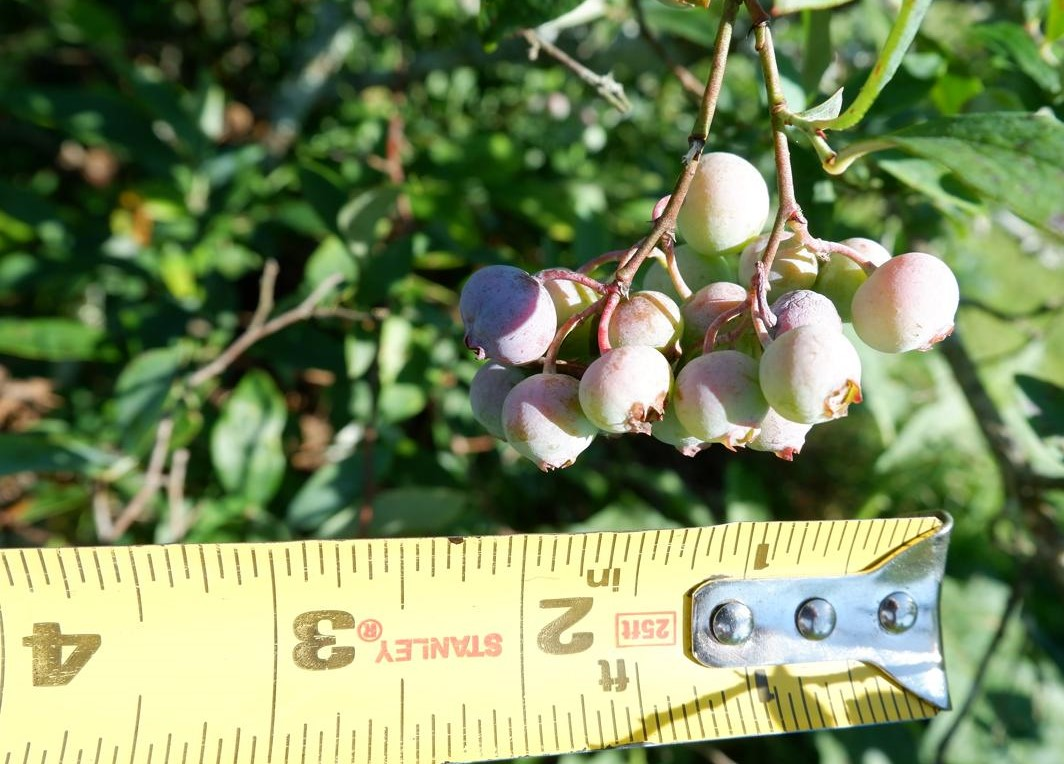Immature: (852, 253, 960, 354), (459, 265, 557, 369), (760, 326, 863, 424), (673, 351, 770, 453), (677, 152, 769, 257), (503, 374, 599, 474), (581, 345, 675, 435), (810, 238, 893, 325), (535, 265, 604, 363), (680, 280, 761, 363), (470, 359, 543, 442), (643, 244, 737, 307), (737, 232, 819, 304), (609, 289, 685, 364), (767, 289, 844, 341), (748, 408, 813, 463), (652, 400, 713, 458)
